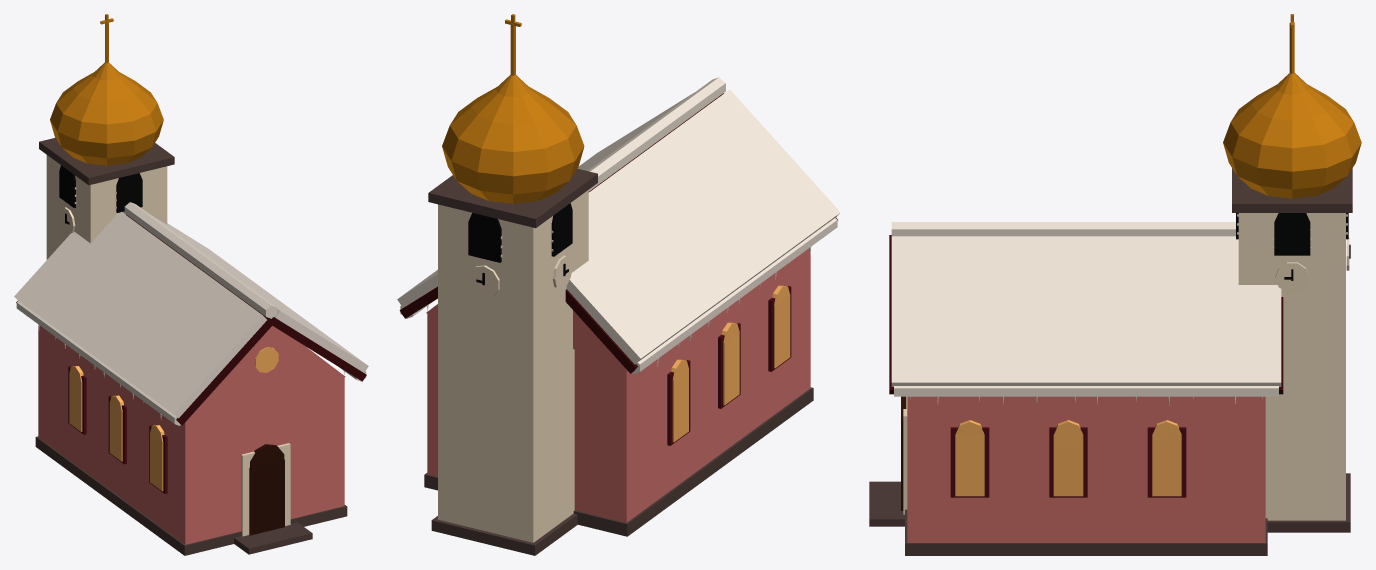
Rendered from rs_chapel.glb.
3 views of the same model, side by side, from view 1: azimuth 30°, elevation 25°; view 2: azimuth 150°, elevation 25°; view 3: azimuth 270°, elevation 25° (orthographic). The views are drawn at different scales.
Parts seen in each view (by area): view 1: chapel; view 2: chapel; view 3: chapel.
Boxes of the visible parts, x1,y1,x2,y2 form: chapel: [14, 14, 368, 555]; chapel: [397, 14, 840, 555]; chapel: [869, 14, 1361, 555].
Size of the model in its own units: 6.12 by 12.16 by 11.
